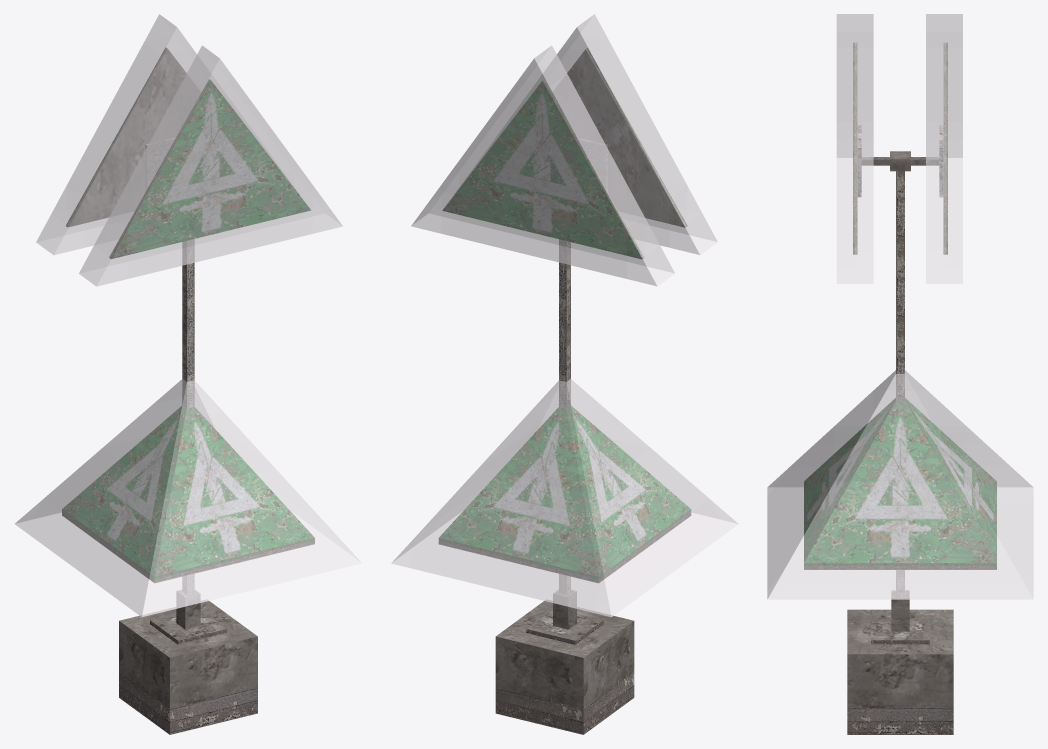
The model's file is CtFlag.glb.
3 renders of one model, left to right at view 1: azimuth 30°, elevation 25°; view 2: azimuth 150°, elevation 25°; view 3: azimuth 270°, elevation 25°, orthographic. The views are drawn at different scales.
Visible parts, largest first — view 1: _CtFlag; view 2: _CtFlag; view 3: _CtFlag.
Part boxes in pixels (x1,y1,x2,y2): _CtFlag: (15, 14, 362, 734); _CtFlag: (391, 14, 738, 734); _CtFlag: (767, 14, 1033, 734).
Bounding box in the file's own units: 2.26 × 5.87 × 2.02.
3 materials, 3 textured.
